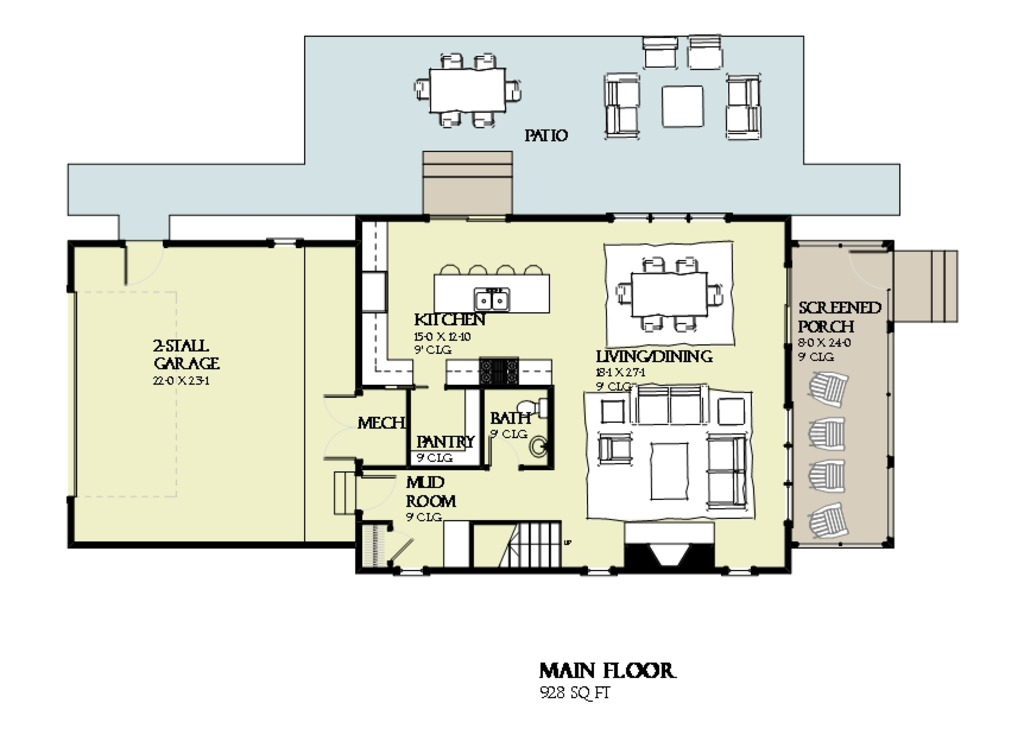dining_table: (411, 48, 522, 127), (615, 253, 723, 331)
kitchen_bar: (429, 260, 553, 317)
large_sink: (514, 398, 547, 420)
large_sofa: (628, 385, 711, 427), (704, 431, 749, 507)
small_sink: (526, 435, 550, 462)
stairs: (468, 519, 566, 567)
